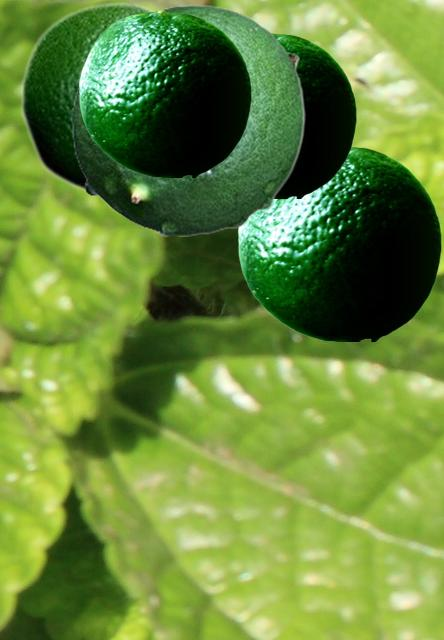calamansi: (71, 4, 304, 235), (238, 145, 440, 340), (79, 9, 250, 176), (19, 1, 157, 197), (272, 32, 355, 197)
